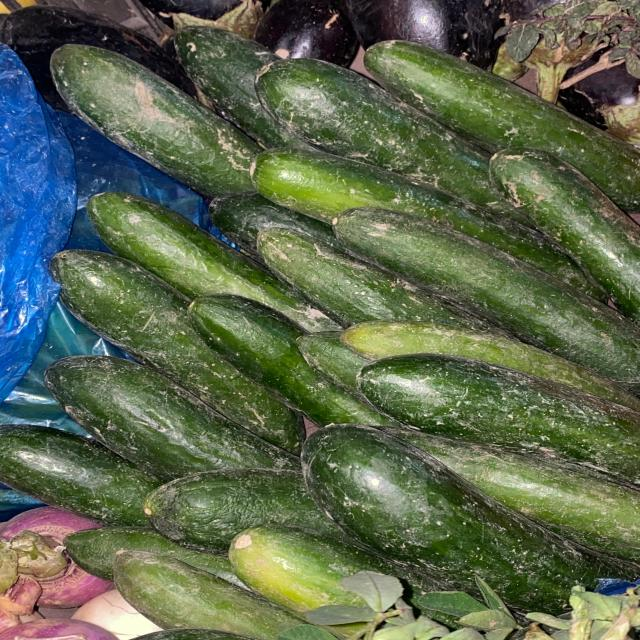paper: (349, 23, 640, 324), (228, 403, 608, 592), (298, 298, 640, 477), (34, 30, 280, 203)
